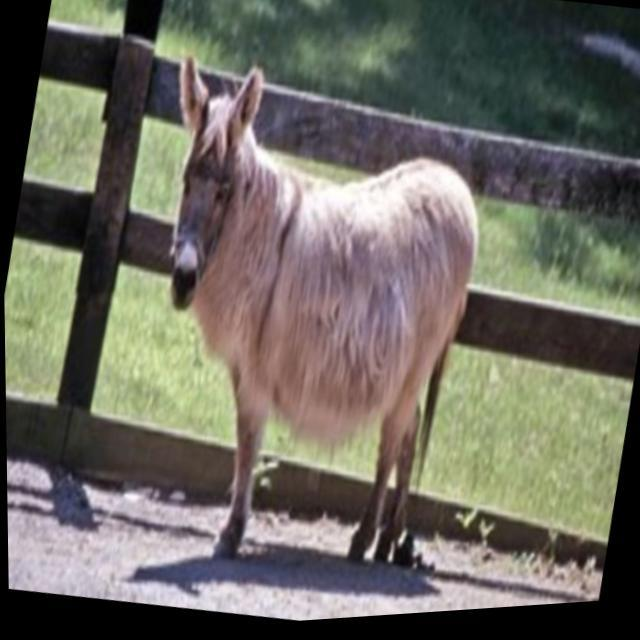Donkey: (92, 35, 510, 628)
